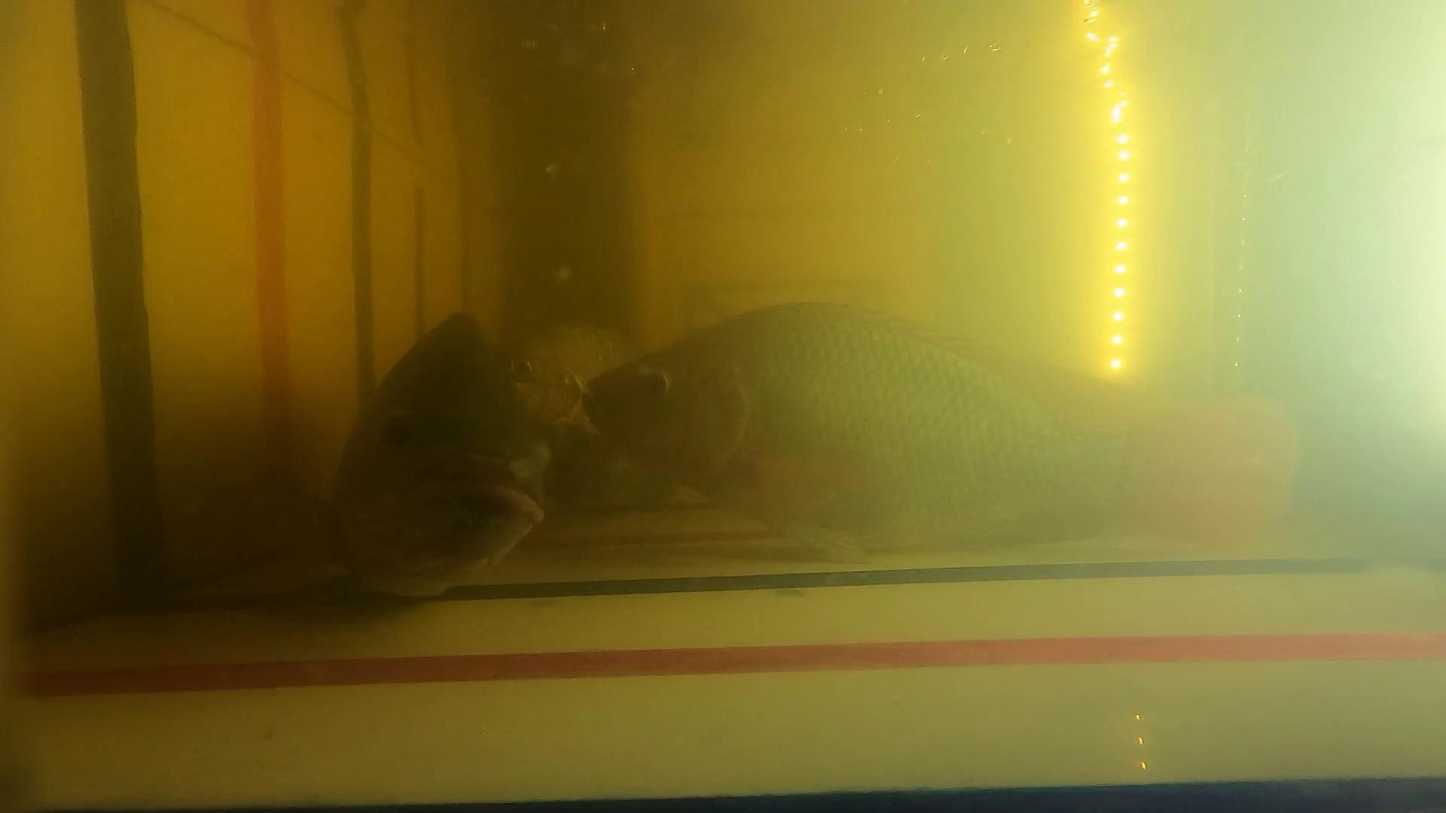Tilapia: (573, 303, 1211, 556)
